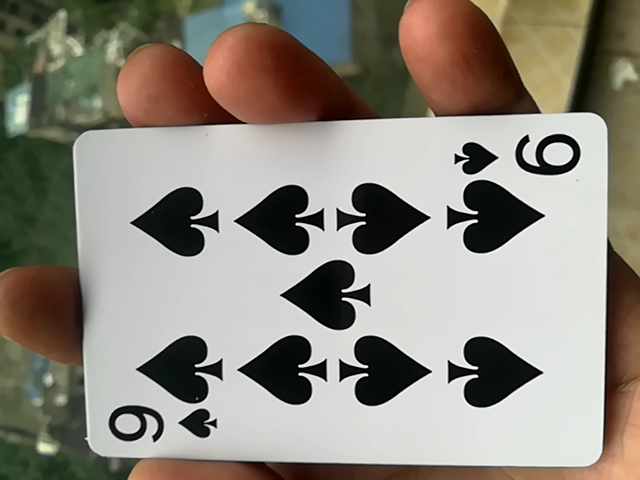ht 9: (59, 117, 608, 469)
